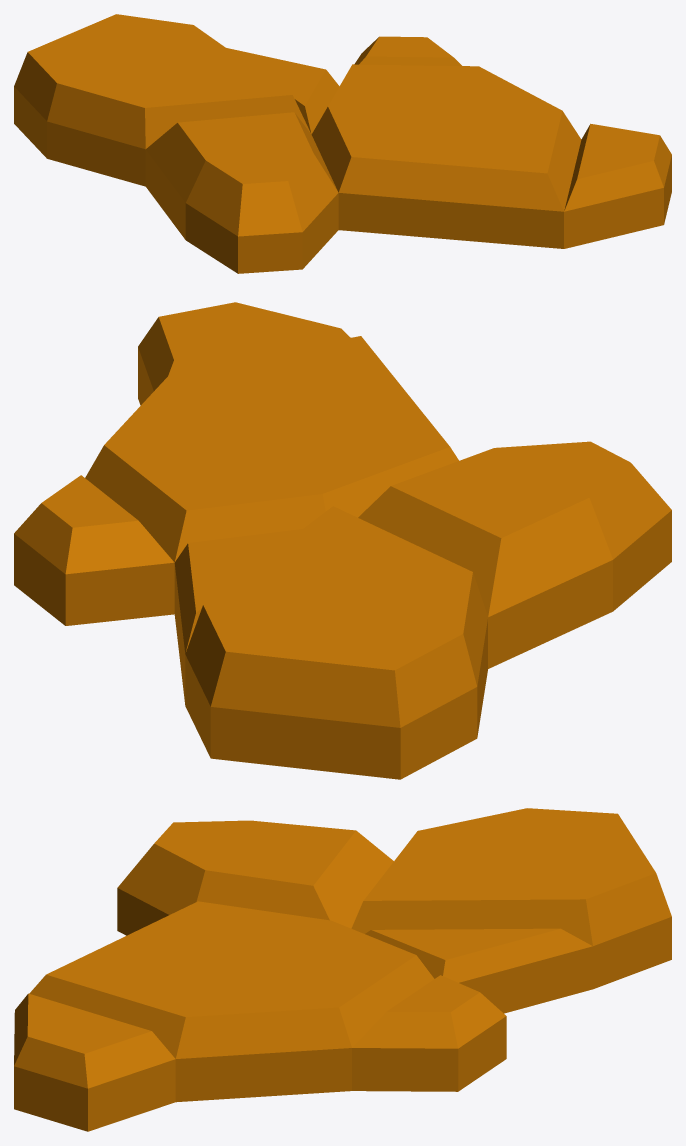
Rendered from brigesRock_Type4_01_mesh_001.fbx.
3 renders of one model, top to bottom at view 1: azimuth 30°, elevation 25°; view 2: azimuth 150°, elevation 25°; view 3: azimuth 270°, elevation 25°, orthographic. The views are drawn at different scales.
Parts seen in each view (by area): view 1: Rock Type4 01 mesh.001; view 2: Rock Type4 01 mesh.001; view 3: Rock Type4 01 mesh.001.
Boxes of the visible parts, x1,y1,x2,y2 form: Rock Type4 01 mesh.001: [14, 14, 671, 273]; Rock Type4 01 mesh.001: [14, 302, 671, 779]; Rock Type4 01 mesh.001: [14, 808, 671, 1131].
Bounding box in the file's own units: 174 × 29.2 × 197.
